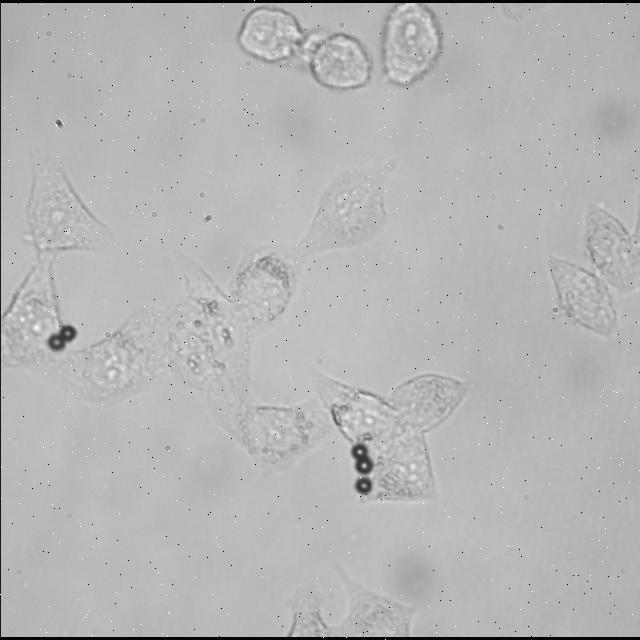microbeads: (354, 456, 376, 476), (355, 478, 371, 496), (63, 325, 77, 345), (48, 334, 64, 350), (352, 444, 366, 458)
